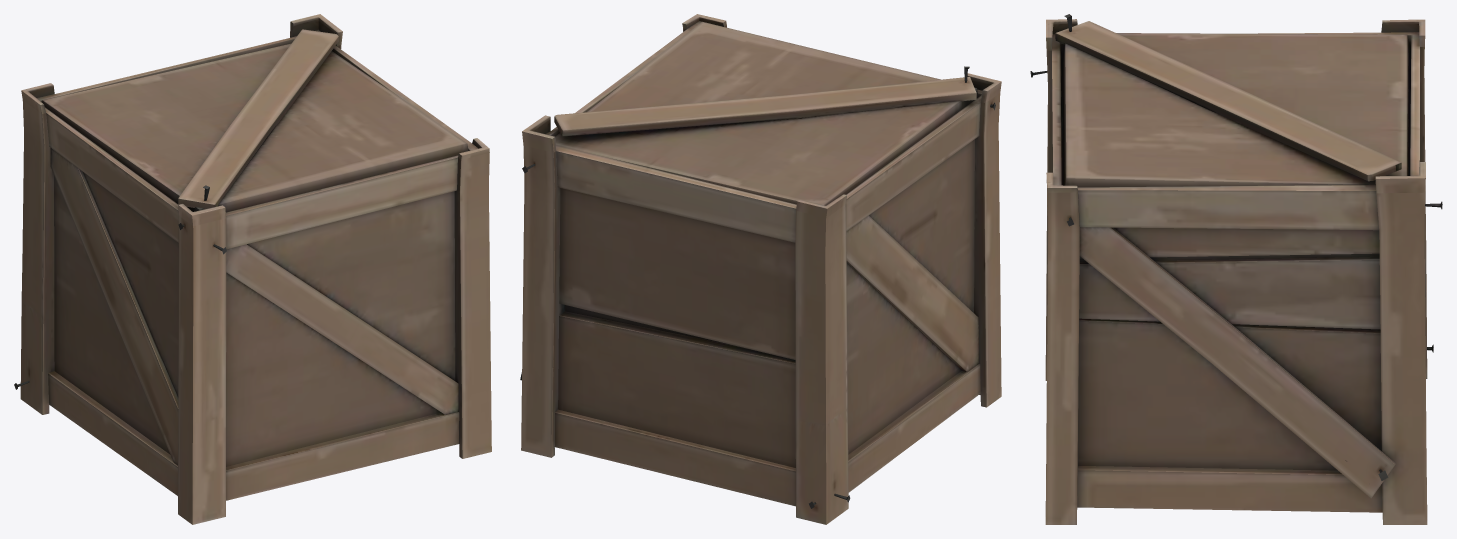
The picture shows the model from 3 angles, left to right: view 1: azimuth 30°, elevation 25°; view 2: azimuth 150°, elevation 25°; view 3: azimuth 270°, elevation 25°; orthographic projection. The views are drawn at different scales.
Parts seen in each view (by area): view 1: body0_model0_lod0_mesh0; view 2: body0_model0_lod0_mesh0; view 3: body0_model0_lod0_mesh0.
Boxes of the visible parts, bbox=[...] form: body0_model0_lod0_mesh0: bbox=[14, 14, 491, 524]; body0_model0_lod0_mesh0: bbox=[520, 14, 1001, 524]; body0_model0_lod0_mesh0: bbox=[1030, 14, 1442, 524].
Size of the model in its own units: 82.32 by 76.94 by 79.68.
1 material, 1 textured.
